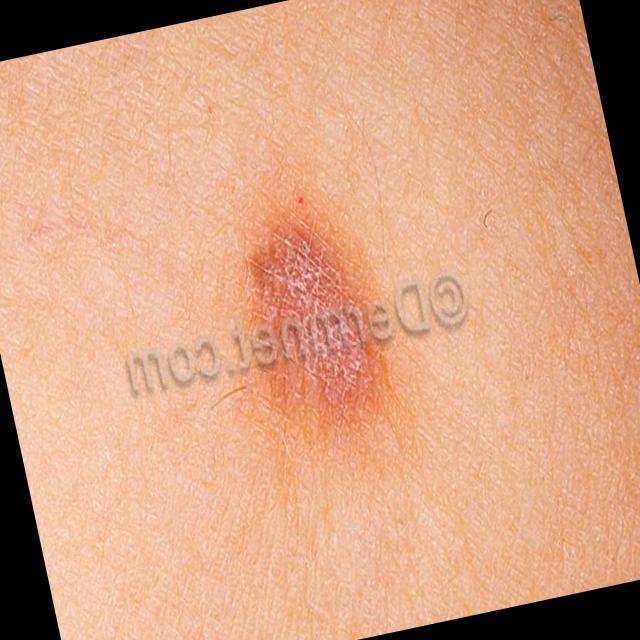Eczema: (238, 203, 402, 440)
